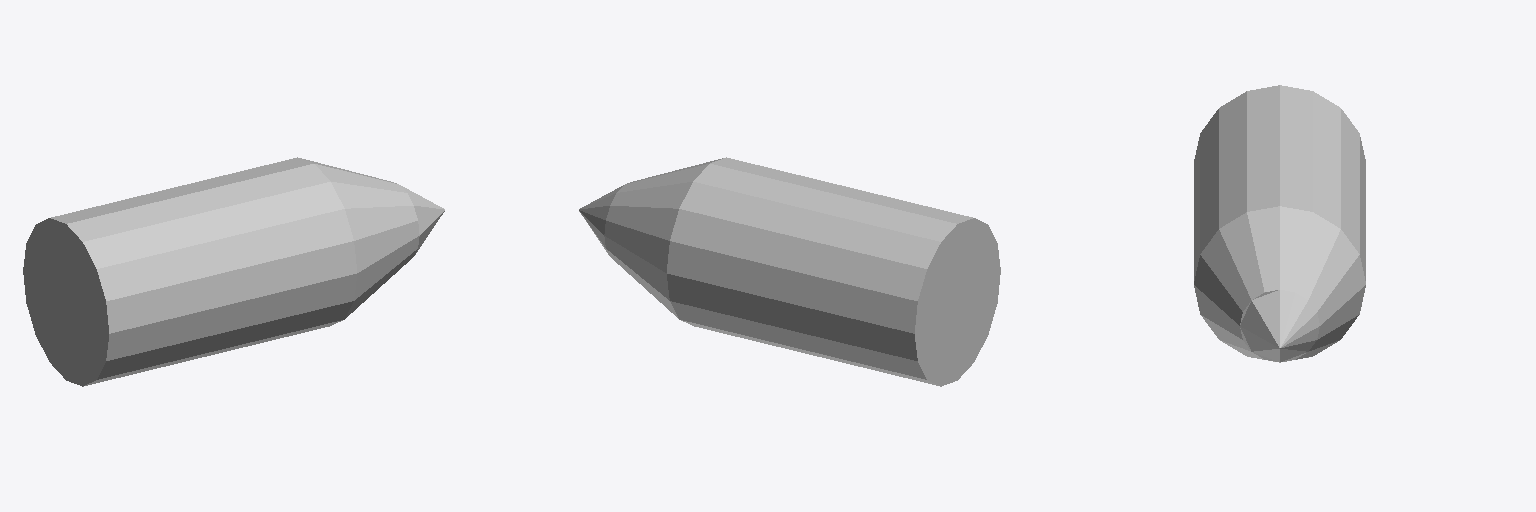
The model's file is Weapon_CannonAmmo.obj.
3 renders of one model, left to right at view 1: azimuth 30°, elevation 25°; view 2: azimuth 150°, elevation 25°; view 3: azimuth 270°, elevation 25°, orthographic.
Visible parts, largest first — view 1: CannonShell; view 2: CannonShell; view 3: CannonShell.
Boxes of the visible parts, box(x1,y1,x2,y2) form: CannonShell: box(23, 157, 444, 386); CannonShell: box(579, 157, 1000, 386); CannonShell: box(1194, 85, 1365, 362).
Bounding box in the file's own units: 0.3071 × 0.121 × 0.121.